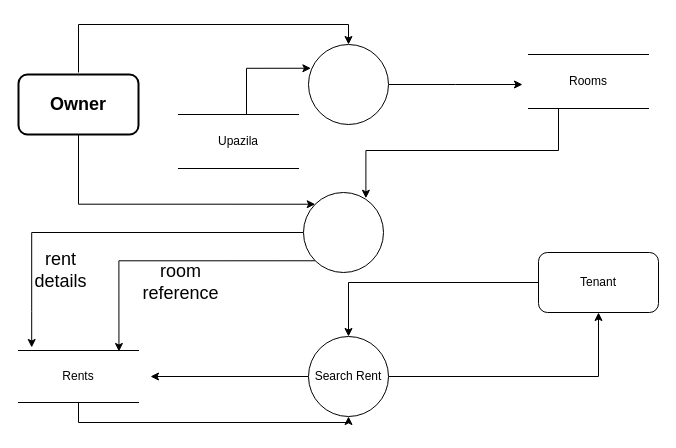
Some shapes in this 676 by 448 pixel diagram are drawn without their labels. The centre of each missing label's shape, as x and y in pixels:
Add Room: the point at 348,84
Post Rent: the point at 343,232
